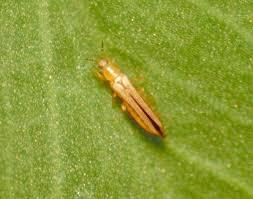Thrips: (79, 41, 175, 144)
